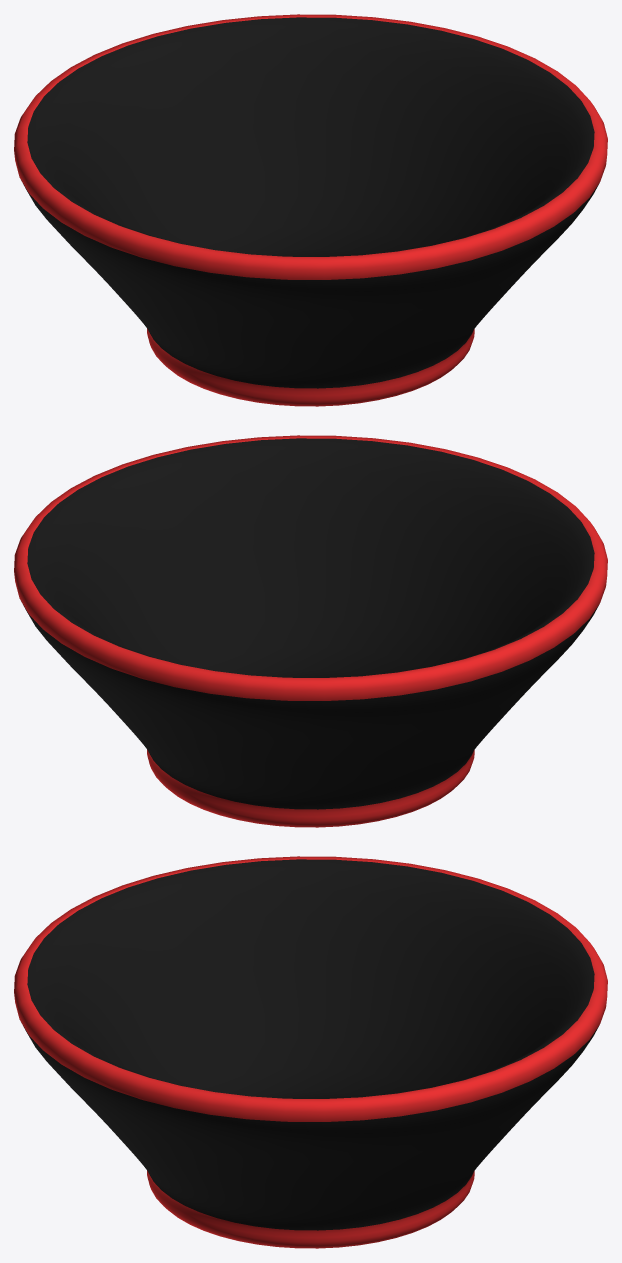
The model's file is RamenEmpty.fbx.
3 views of the same model, one above another, from view 1: azimuth 30°, elevation 25°; view 2: azimuth 150°, elevation 25°; view 3: azimuth 270°, elevation 25° (orthographic).
Visible parts, largest first — view 1: Bowl.002; view 2: Bowl.002; view 3: Bowl.002.
Part boxes in pixels (box(x1,y1,x2,y2)): Bowl.002: box(14, 14, 607, 406); Bowl.002: box(14, 435, 607, 827); Bowl.002: box(14, 856, 607, 1248).
Size of the model in its own units: 20.22 by 7.87 by 20.22.
